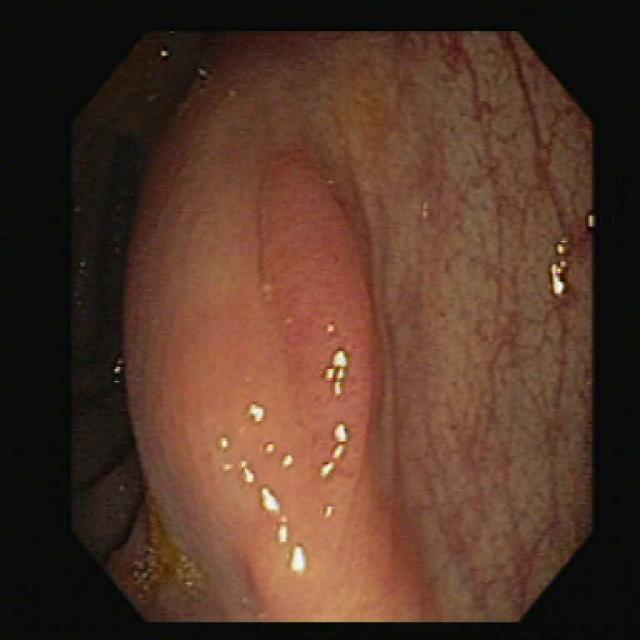tumor: (258, 160, 373, 510)
